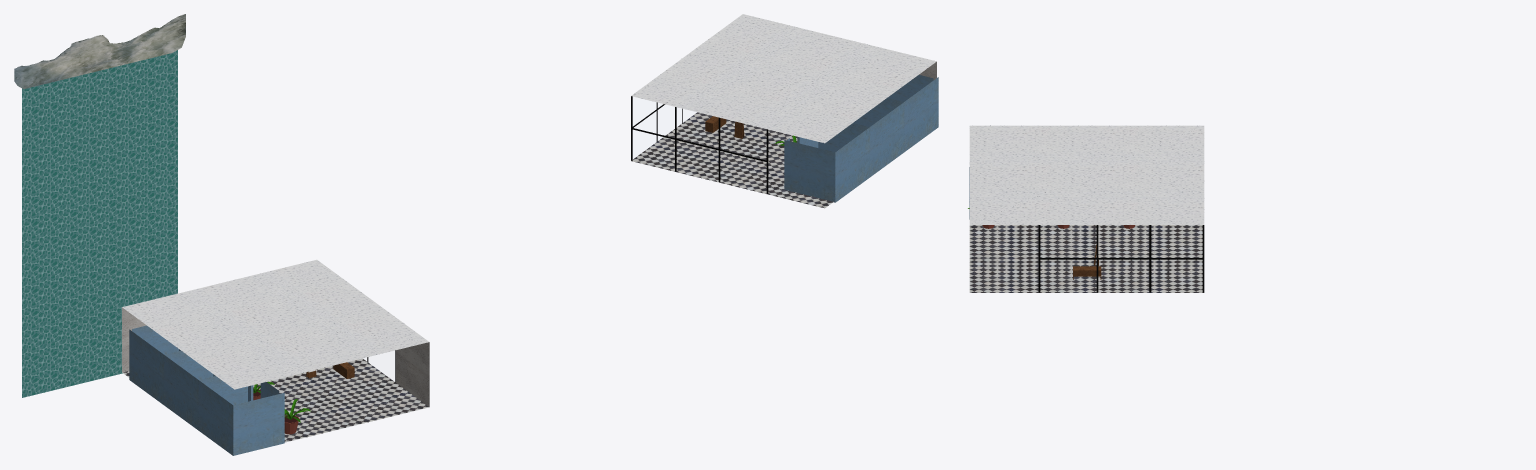
File: dream3.glb
3 renders of one model, left to right at view 1: azimuth 30°, elevation 25°; view 2: azimuth 150°, elevation 25°; view 3: azimuth 270°, elevation 25°, orthographic. The views are drawn at different scales.
Visible parts, largest first — view 1: Plane, ceiling, ground, cubicle.002, cubicle.003, cubicle.001, glassFront.001, glassFront; view 2: ceiling, ground, cubicle.003, cubicle.001, cubicle.002, glassFront; view 3: ceiling, ground, glassFront.001.
Boxes of the visible parts, left/top/right/bottom form: Plane: left=14, top=14, right=185, bottom=397; ceiling: left=122, top=259, right=428, bottom=389; ground: left=122, top=358, right=428, bottom=442; cubicle.002: left=198, top=376, right=284, bottom=455; cubicle.003: left=129, top=325, right=180, bottom=404; cubicle.001: left=164, top=351, right=215, bottom=430; glassFront.001: left=367, top=342, right=429, bottom=406; glassFront: left=122, top=307, right=146, bottom=372; ceiling: left=631, top=14, right=936, bottom=143; ground: left=631, top=112, right=833, bottom=208; cubicle.003: left=784, top=125, right=869, bottom=202; cubicle.001: left=850, top=100, right=904, bottom=177; cubicle.002: left=885, top=75, right=938, bottom=151; glassFront: left=631, top=96, right=768, bottom=193; ceiling: left=969, top=125, right=1204, bottom=224; ground: left=969, top=225, right=1203, bottom=292; glassFront.001: left=1038, top=225, right=1204, bottom=292.
Bounding box in the file's own units: 27.91 × 42.18 × 59.12.
Materials: 15 (10 with a texture image).
